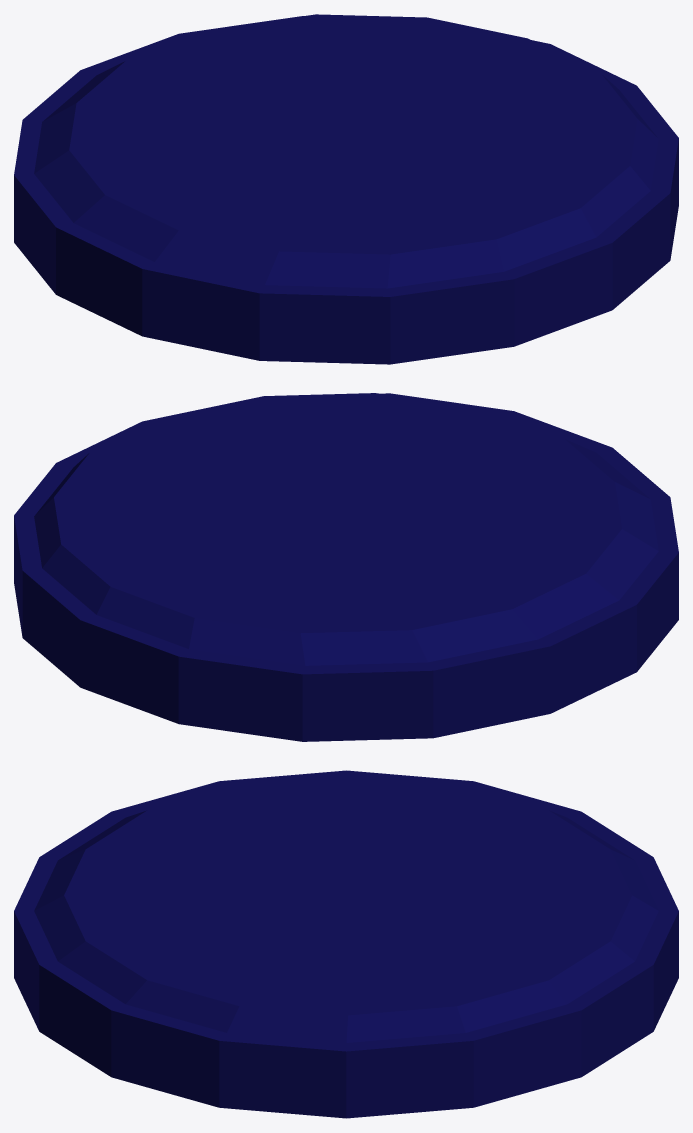
File: Save Platform Model.fbx
The picture shows the model from 3 angles, top to bottom: view 1: azimuth 30°, elevation 25°; view 2: azimuth 150°, elevation 25°; view 3: azimuth 270°, elevation 25°; orthographic projection.
Visible parts, largest first — view 1: Cylinder; view 2: Cylinder; view 3: Cylinder.
Boxes of the visible parts, box(x1,y1,x2,y2) form: Cylinder: box(14, 14, 678, 364); Cylinder: box(14, 393, 678, 741); Cylinder: box(14, 770, 678, 1118).
Bounding box in the file's own units: 1800 × 258 × 1800.
